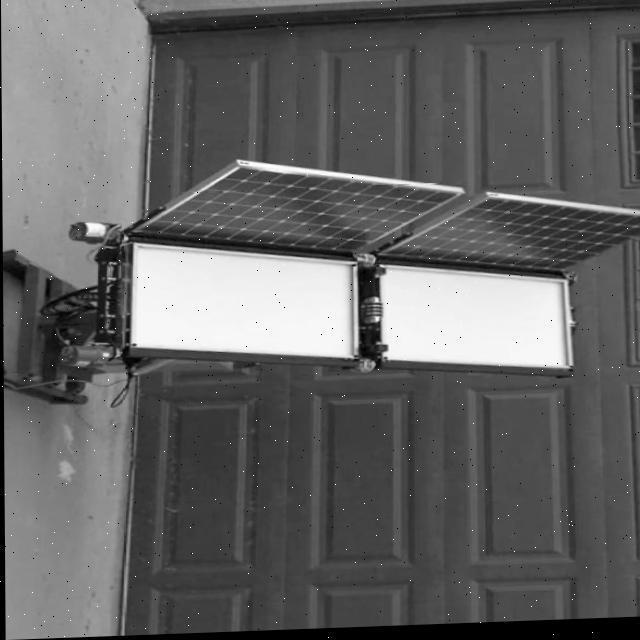Normal Solar Panel: (130, 155, 462, 258), (381, 190, 640, 278)
